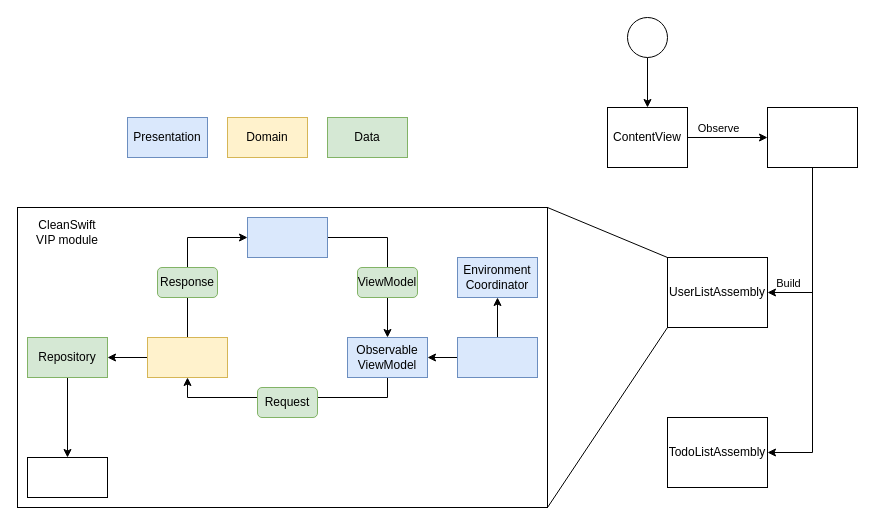
This 875x526 diagram has some shape labels left out. Here are the shapes that lost their labels. From the top down, the box of each, then its label:
(626, 16, 668, 58): Main
(766, 106, 858, 168): Coordinator
(246, 216, 328, 258): Presenter
(146, 336, 228, 378): Interactor
(456, 336, 538, 378): SwiftUI View
(26, 456, 108, 498): ApiService
